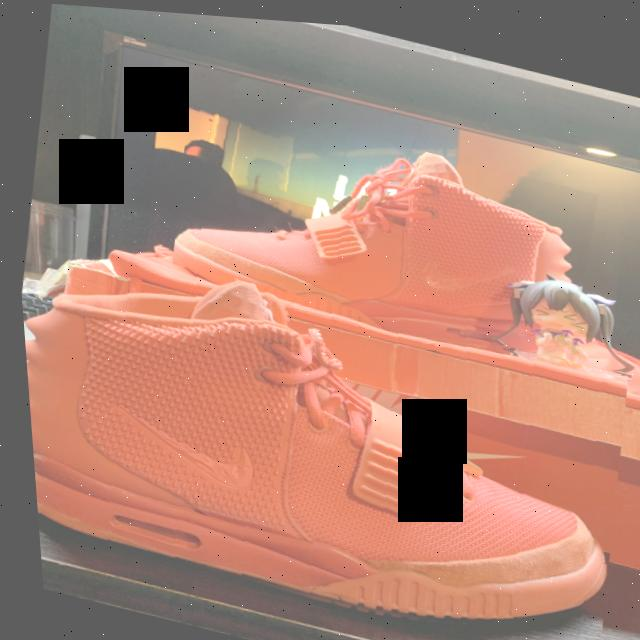shoe: (13, 227, 640, 640), (154, 89, 607, 377)
